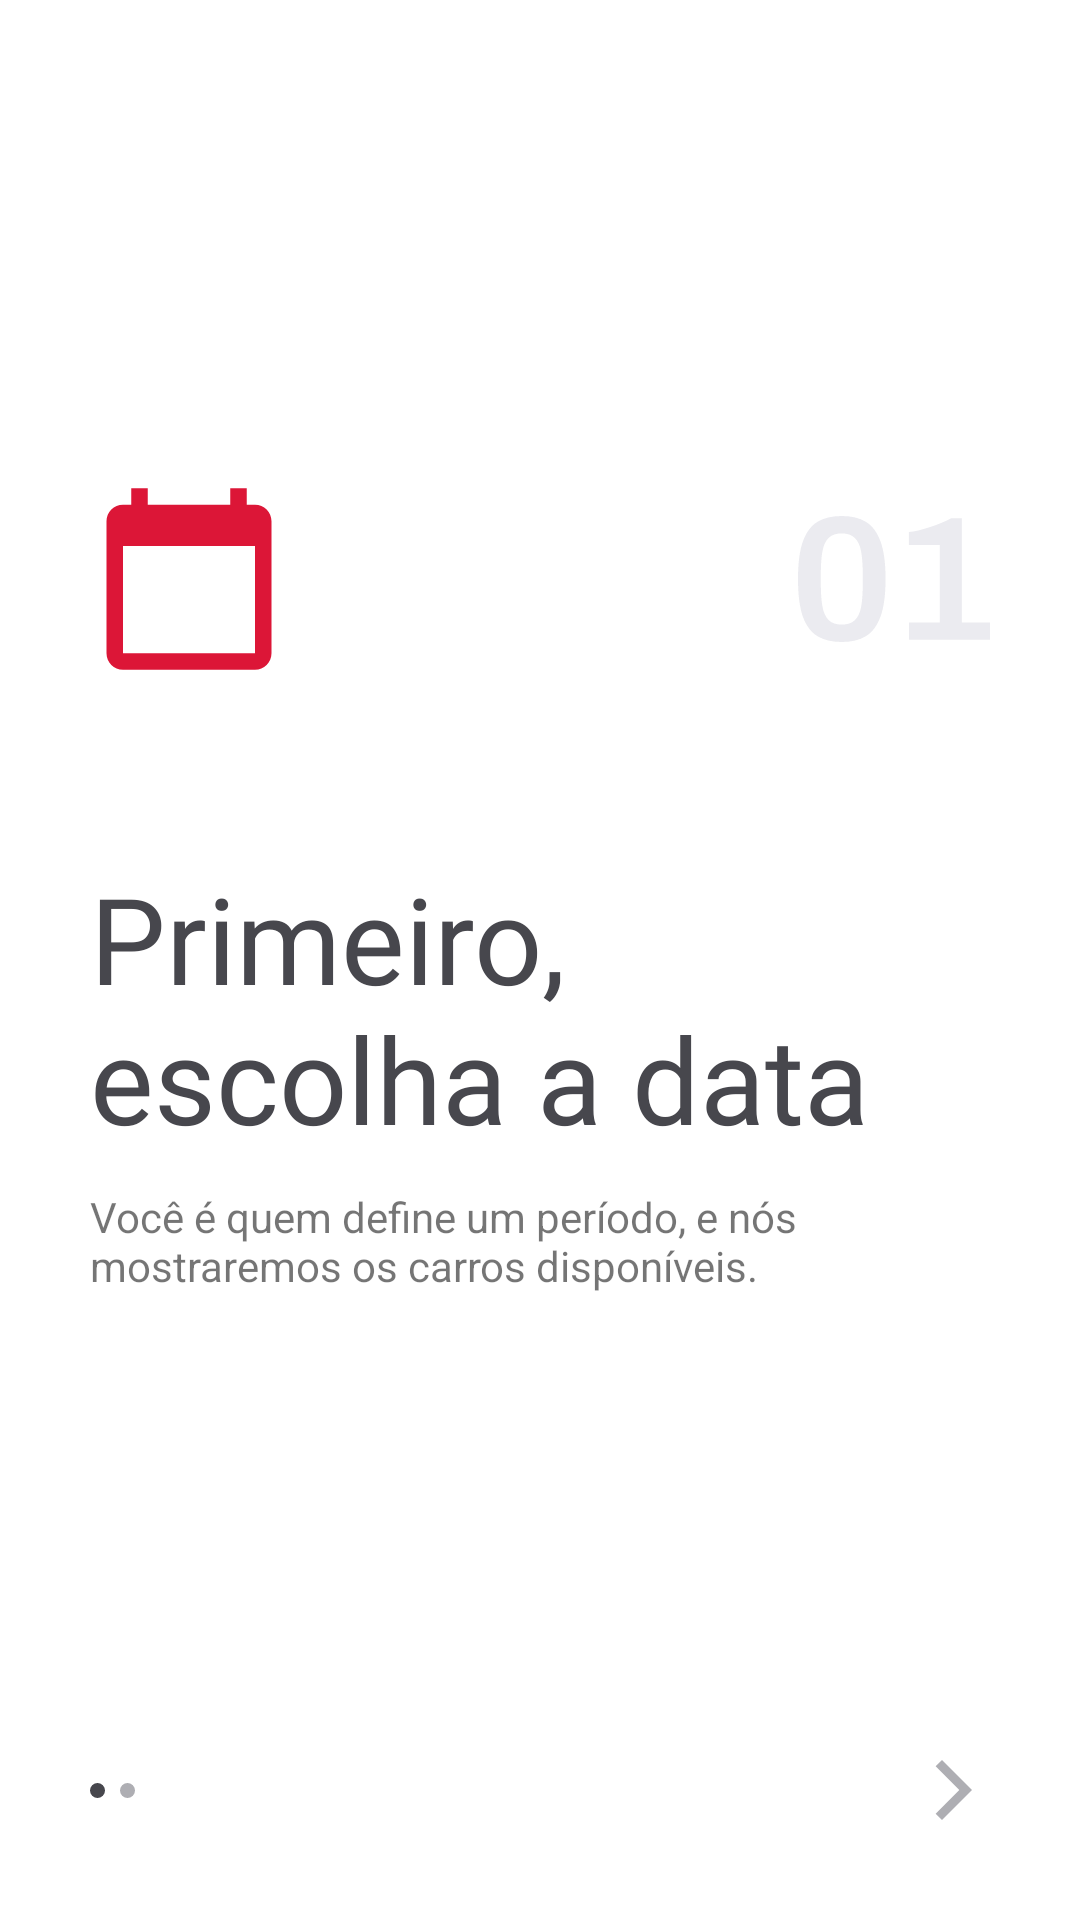

Icons on this 1080*1920 Android screen, each with the point to tap as (x,y):
calendar: (189,579)
chevron right: (954,1790)
